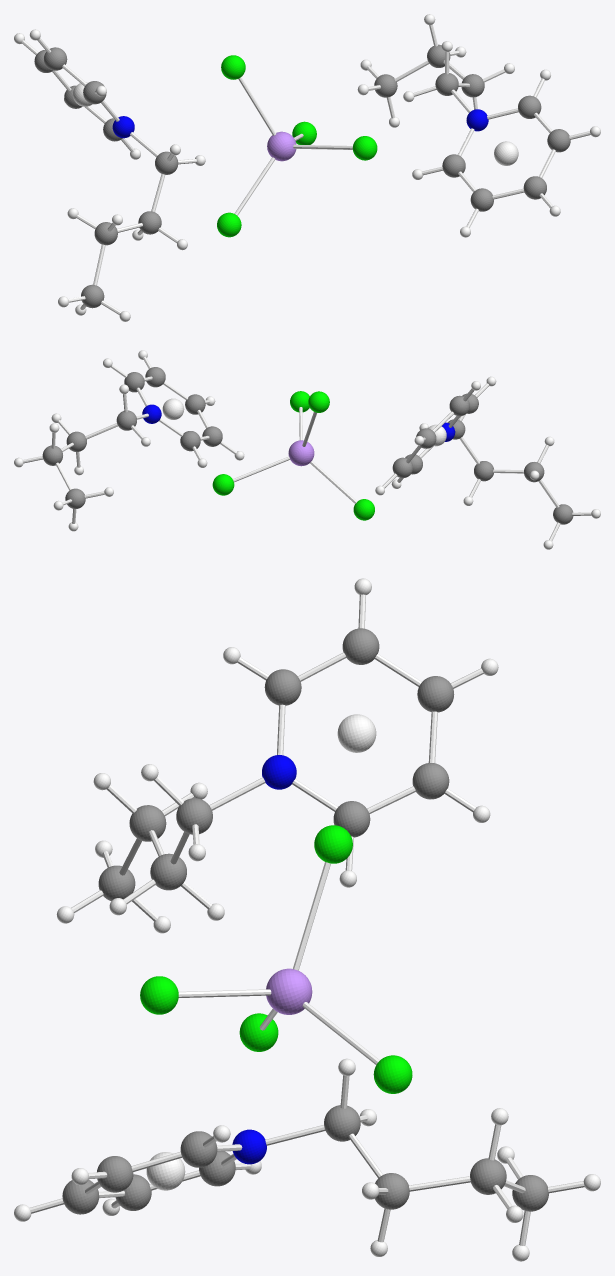
3 renders of one model, top to bottom at view 1: azimuth 30°, elevation 25°; view 2: azimuth 150°, elevation 25°; view 3: azimuth 270°, elevation 25°, orthographic. The views are drawn at different scales.
Bounding box in the file's own units: 0.1518 × 0.0628 × 0.0909.
